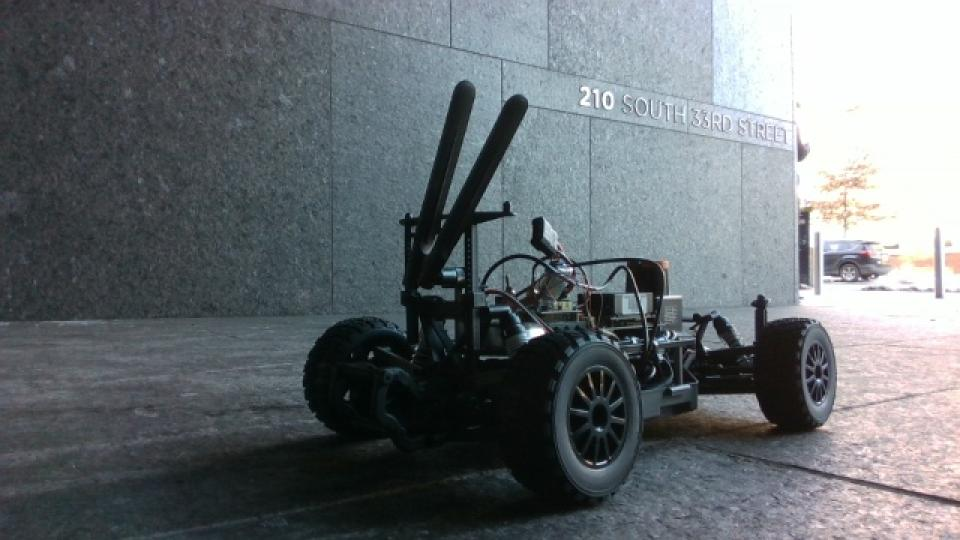car: (298, 76, 840, 506)
